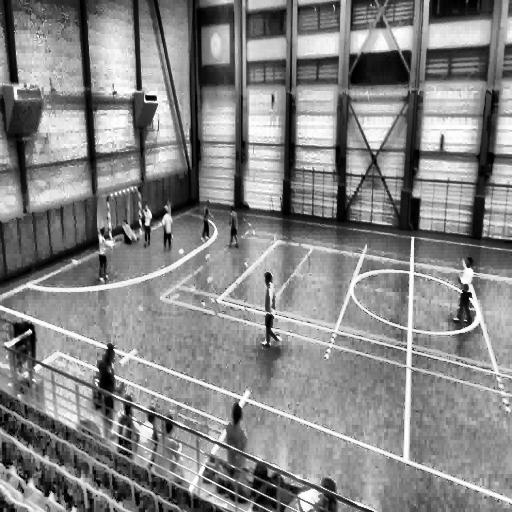player: (94, 345, 118, 439), (454, 255, 475, 324), (261, 271, 279, 349), (98, 226, 114, 280), (200, 198, 214, 244), (162, 203, 173, 251), (142, 203, 154, 246), (229, 206, 240, 248), (123, 220, 138, 244)
